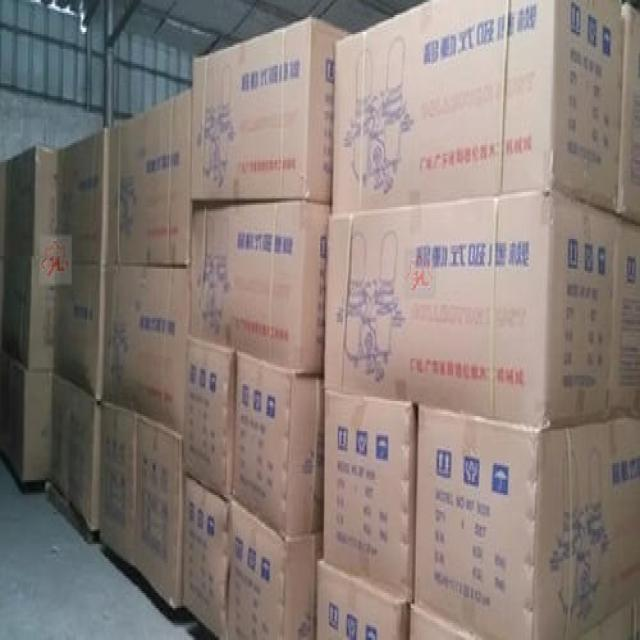box: (325, 192, 614, 425), (333, 2, 622, 211), (416, 405, 639, 638), (192, 17, 355, 203), (189, 203, 330, 378), (321, 390, 416, 602), (232, 356, 325, 540), (110, 90, 195, 265), (104, 265, 189, 439), (229, 501, 323, 638), (134, 418, 183, 608), (51, 373, 102, 531), (184, 337, 233, 501), (184, 474, 229, 638), (317, 561, 410, 638), (59, 130, 110, 265), (54, 267, 105, 399), (0, 354, 52, 482), (0, 260, 56, 371), (99, 405, 138, 563), (9, 145, 58, 260), (613, 220, 640, 418), (620, 9, 640, 224), (580, 597, 639, 638), (410, 606, 475, 638), (0, 162, 10, 258)
